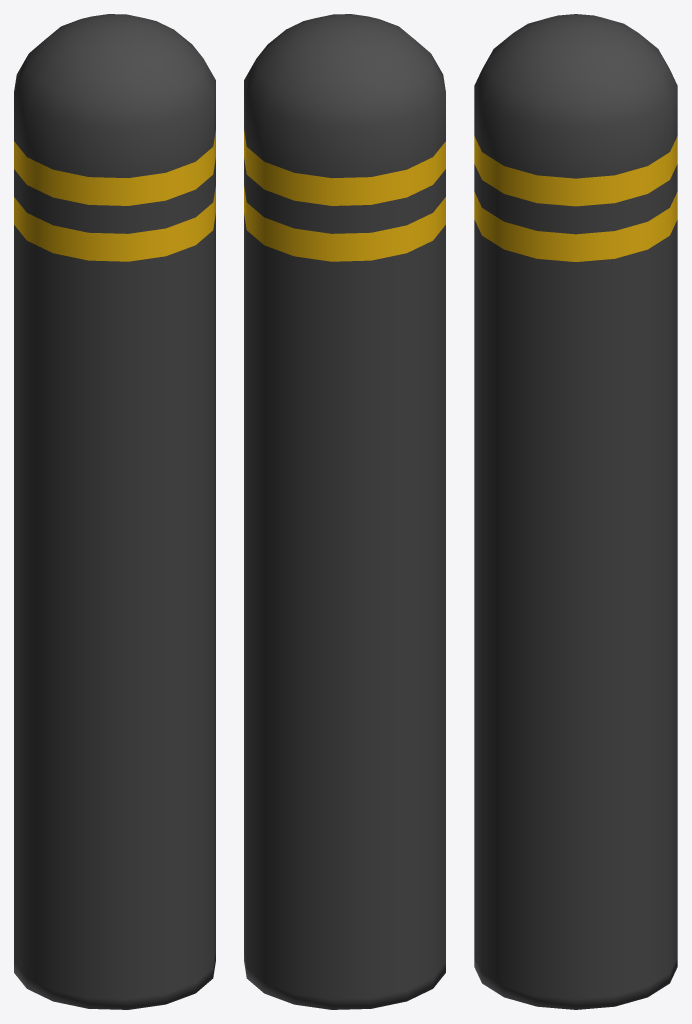
Rendered from Rising_Pillar_Column.glb.
3 views of the same model, side by side, from view 1: azimuth 30°, elevation 25°; view 2: azimuth 150°, elevation 25°; view 3: azimuth 270°, elevation 25° (orthographic).
Visible parts, largest first — view 1: Column; view 2: Column; view 3: Column.
Boxes of the visible parts, box(x1,y1,x2,y2) form: Column: box(14, 14, 215, 1009); Column: box(244, 14, 445, 1009); Column: box(474, 14, 677, 1009).
Size of what is drawn, in the model's own units: 1.66 by 8.5 by 1.66.
Materials: 1 (1 with a texture image).
